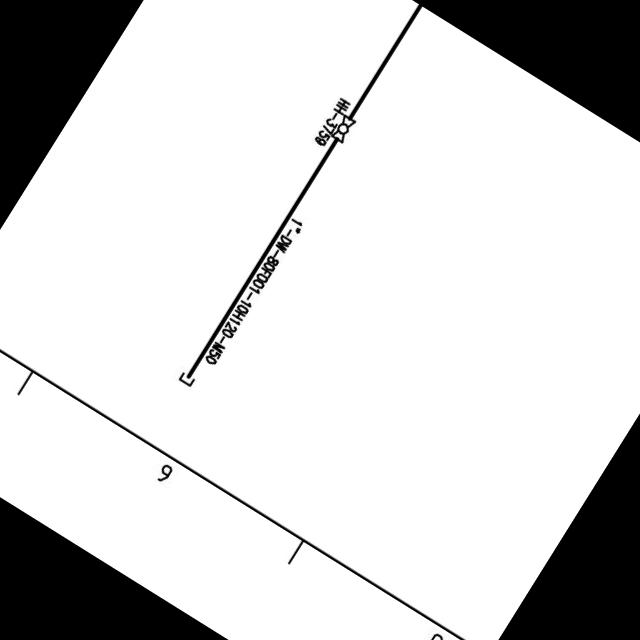BV2: (326, 112, 360, 150)
EC: (170, 353, 207, 394)
